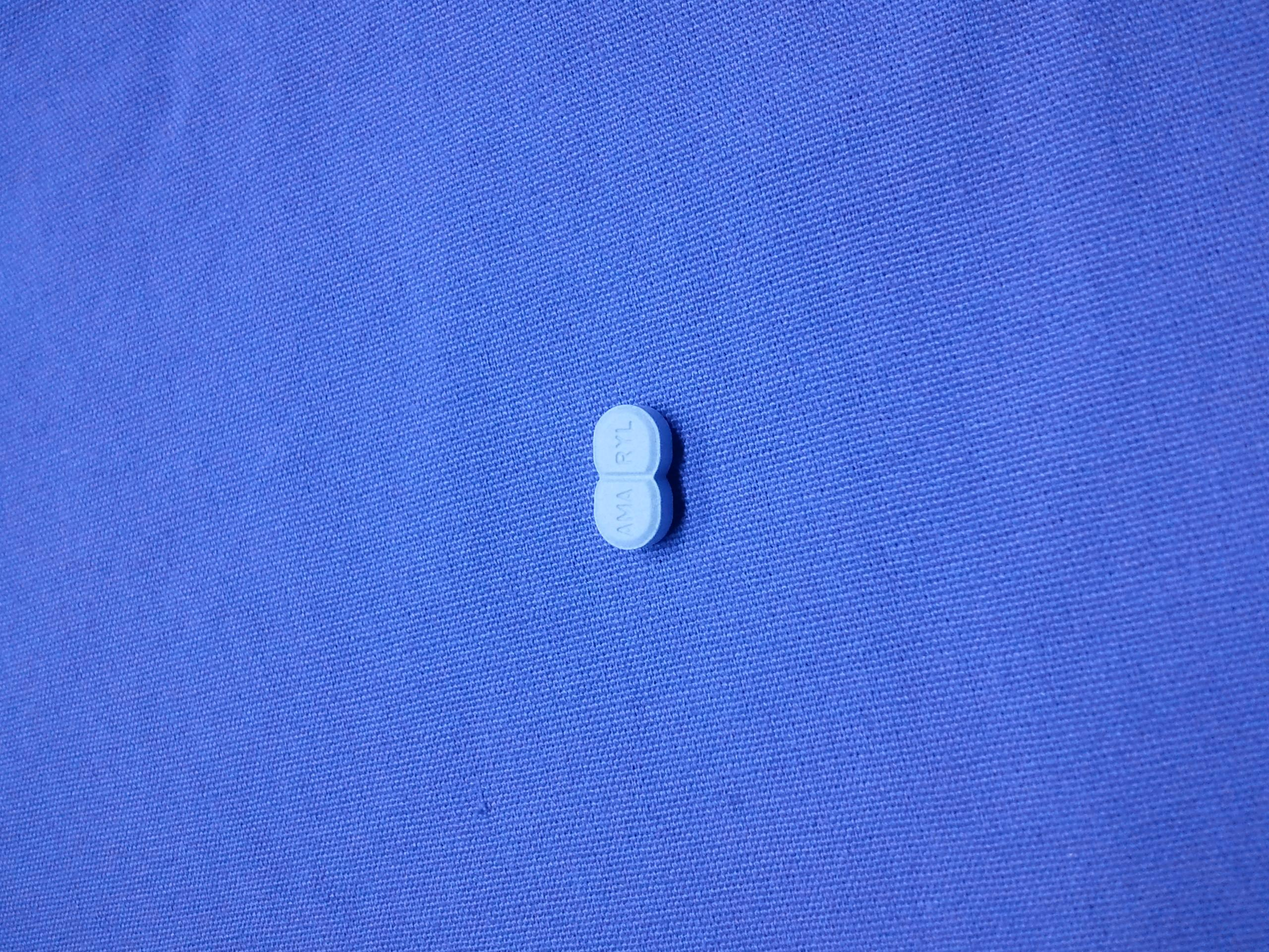Pill: (575, 393, 686, 563)
